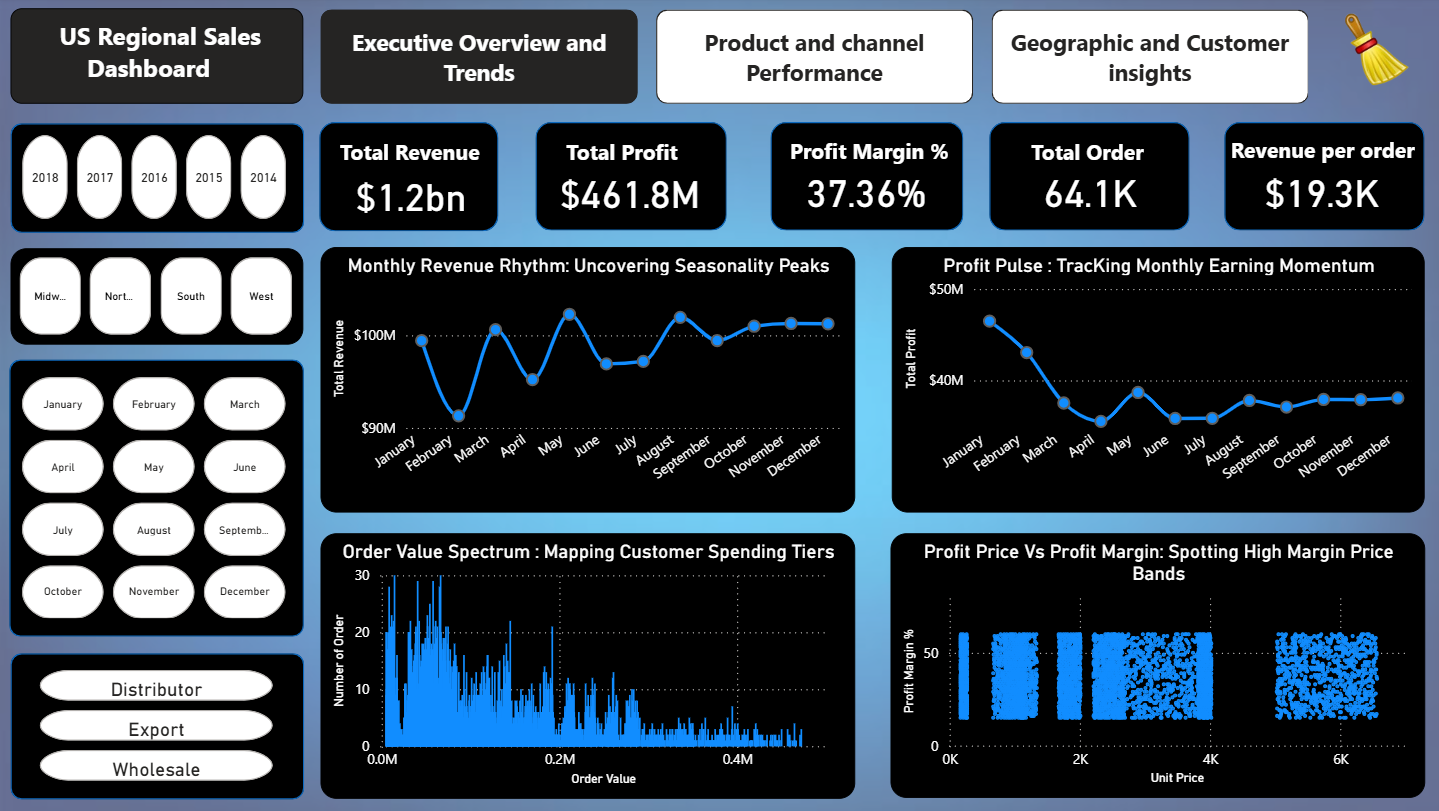

Layout of this report page (visuals, bound fields, positions):
{"tool":"powerbi","page":{"name":"Executive Overview and Trends","canvas":[1280,720],"ordinal":0},"visuals":[{"type":"textbox","box":[11,9.6,258,83.7],"z":0},{"type":"pageNavigator","box":[283.3,10.7,869.1,83.3],"z":1000},{"type":"shape","box":[10.7,110.7,258.3,96.4],"z":2000},{"type":"advancedSlicerVisual","fields":{"Values":["Sales_data.order_date.Variation.Date Hierarchy.Year"]},"box":[16.7,116.7,244,84.5],"z":3000},{"type":"shape","box":[10.3,319.4,259.1,243.7],"z":4000},{"type":"advancedSlicerVisual","fields":{"Values":["Sales_data.order_date.Variation.Date Hierarchy.Month"]},"box":[15.4,328.4,246.3,225.8],"z":5000},{"type":"shape","box":[10.7,577.4,258.3,128.6],"z":6000},{"type":"advancedSlicerVisual","fields":{"Values":["Sales_data.channel"]},"box":[32.1,587.5,215.5,109],"z":7000},{"type":"shape","box":[283.1,110.2,157.6,96.2],"z":8000},{"type":"shape","box":[472.5,110.4,168.3,95.6],"z":9000},{"type":"shape","box":[679.9,110.4,169.6,95.6],"z":10000},{"type":"shape","box":[872.4,110.4,176.4,95.6],"z":11000},{"type":"shape","box":[1078.3,110.4,176.4,95.6],"z":12000},{"type":"card","fields":{"Values":["Sum(Sales_data.revenue)"]},"box":[295.2,147.6,135.7,53.6],"z":13000},{"type":"textbox","box":[295.4,118.4,144.6,46.1],"z":14000},{"type":"card","fields":{"Values":["Sum(Sales_data.profit)"]},"box":[488.2,145.2,135.8,52.4],"z":15000},{"type":"card","fields":{"Values":["Sales_data.Profit_Margin_in_%","select"]},"box":[671.1,143.9,186.9,52.4],"z":16000},{"type":"card","fields":{"Values":["Sales_data.Total_order_count"]},"box":[900.6,144,121.2,52.5],"z":17000},{"type":"card","fields":{"Values":["Sales_data.Revenue_per_Order"]},"box":[1105.4,143.9,119.7,52.4],"z":18000},{"type":"textbox","box":[495.1,118.5,135.3,46],"z":19000},{"type":"textbox","box":[691.7,117.2,157.6,46],"z":20000},{"type":"textbox","box":[903.3,118.5,136,45.8],"z":21000},{"type":"textbox","box":[1074.5,117,180.2,76.7],"z":22000},{"type":"lineChart","title":"Monthly Revenue Rhythm: Uncovering Seasonality Peaks","fields":{"Y":["Sum(Sales_data.revenue)"],"Category":["Sales_data.order_month.Variation.Date Hierarchy.Month"]},"box":[283.3,220.2,470.2,233.3],"z":23000},{"type":"lineChart","title":"Profit Pulse : TracKing Monthly Earning Momentum","fields":{"Category":["Sales_data.order_month.Variation.Date Hierarchy.Month"],"Y":["Sum(Sales_data.profit)"]},"box":[785.7,220.2,469.1,233.3],"z":24000},{"type":"columnChart","title":"Order Value Spectrum : Mapping Customer Spending Tiers","fields":{"Category":["Order_Value_Distribution.OrderValue"],"Y":["CountNonNull(Order_Value_Distribution.order_number)"]},"box":[283.3,471.4,470.2,233.3],"z":25000},{"type":"scatterChart","title":"Profit Price  Vs Profit Margin: Spotting High Margin Price Bands","fields":{"X":["Sales_data.unit_price"],"Y":["Sales_data.profit_margin_pct"]},"box":[785.3,471.9,470.7,232.8],"z":26000},{"type":"advancedSlicerVisual","fields":{"Values":["Sales_data.us_region"]},"box":[11.5,220.6,257.8,84.7],"z":27000},{"type":"image","box":[1177.4,7.1,78.6,85.7],"z":27001}]}

Visuals, with their boxes in screenshot pixels (x1, y1, x2, y2), scaled from the page's 1280x720 canvas onto the 1439x811 screenshot:
textbox: detection(12, 11, 302, 105)
pageNavigator: detection(318, 12, 1296, 106)
shape: detection(12, 125, 302, 233)
advancedSlicerVisual - Sales_data.order_date.Variation.Date Hierarchy.Year: detection(19, 131, 293, 227)
shape: detection(12, 360, 303, 634)
advancedSlicerVisual - Sales_data.order_date.Variation.Date Hierarchy.Month: detection(17, 370, 294, 624)
shape: detection(12, 650, 302, 795)
advancedSlicerVisual - Sales_data.channel: detection(36, 662, 278, 785)
shape: detection(318, 124, 495, 232)
shape: detection(531, 124, 720, 232)
shape: detection(764, 124, 955, 232)
shape: detection(981, 124, 1179, 232)
shape: detection(1212, 124, 1411, 232)
card - Sum(Sales_data.revenue): detection(332, 166, 484, 227)
textbox: detection(332, 133, 495, 185)
card - Sum(Sales_data.profit): detection(549, 164, 702, 223)
card - Sales_data.Profit_Margin_in_% x select: detection(754, 162, 965, 221)
card - Sales_data.Total_order_count: detection(1012, 162, 1149, 221)
card - Sales_data.Revenue_per_Order: detection(1243, 162, 1377, 221)
textbox: detection(557, 133, 709, 185)
textbox: detection(778, 132, 955, 184)
textbox: detection(1016, 133, 1168, 185)
textbox: detection(1208, 132, 1411, 218)
"Monthly Revenue Rhythm: Uncovering Seasonality Peaks" lineChart: detection(318, 248, 847, 511)
"Profit Pulse : TracKing Monthly Earning Momentum" lineChart: detection(883, 248, 1411, 511)
"Order Value Spectrum : Mapping Customer Spending Tiers" columnChart: detection(318, 531, 847, 794)
"Profit Price  Vs Profit Margin: Spotting High Margin Price Bands" scatterChart: detection(883, 532, 1412, 794)
advancedSlicerVisual - Sales_data.us_region: detection(13, 248, 303, 344)
image: detection(1324, 8, 1412, 105)
